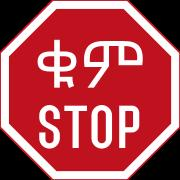Stop: (7, 8, 175, 176)
